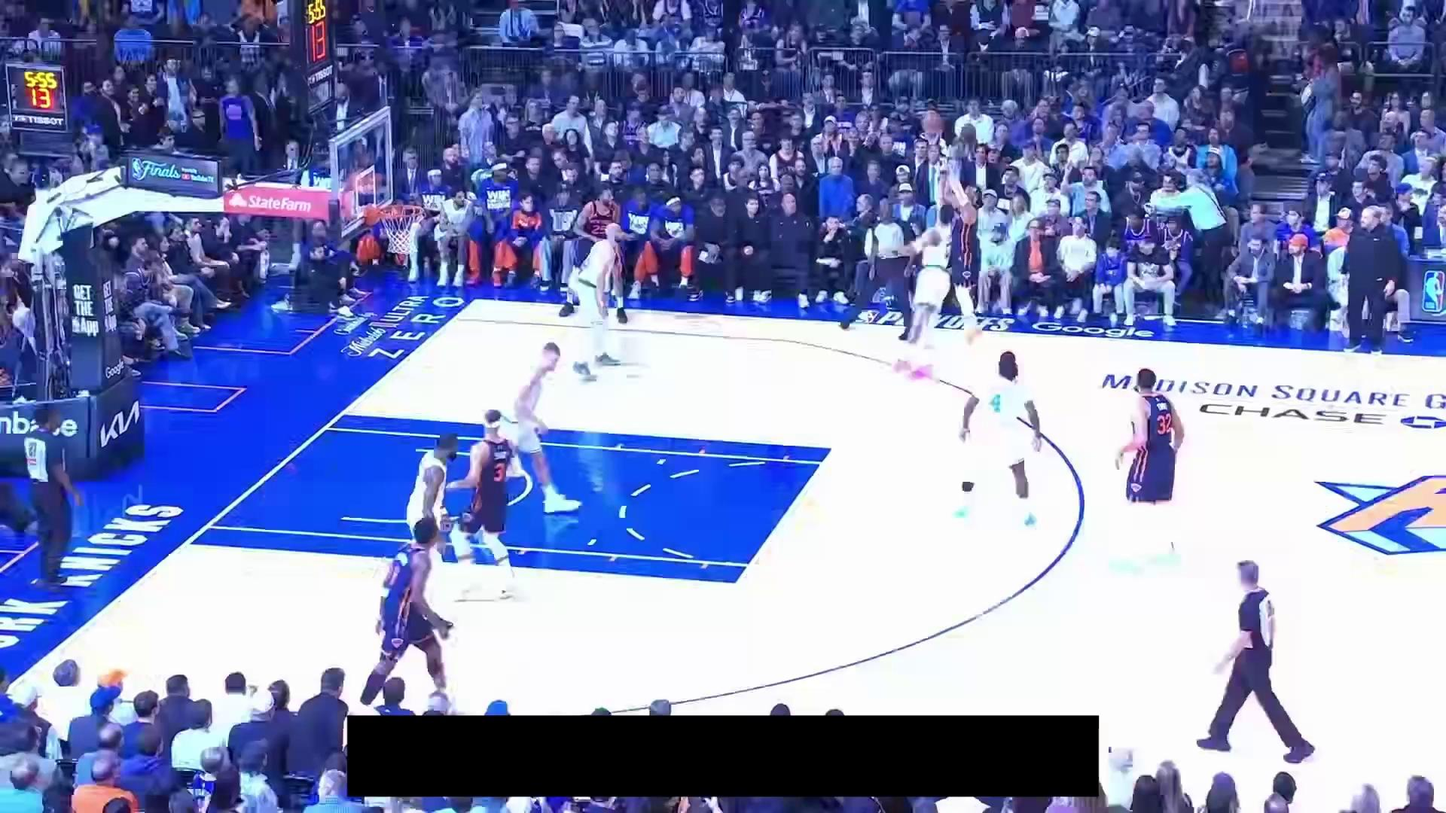ball: (923, 110, 944, 132)
number: (1157, 413, 1172, 434), (989, 392, 1003, 413), (493, 462, 505, 483), (591, 224, 608, 235)
player: (949, 321, 1046, 531), (355, 517, 454, 716), (439, 407, 525, 602), (1111, 364, 1190, 563), (493, 341, 583, 513), (557, 185, 627, 324), (406, 429, 459, 607), (572, 222, 625, 383)
player-jump-shot: (933, 166, 990, 358)
player-shot-block: (890, 168, 956, 382)
referee: (1194, 555, 1319, 765), (22, 400, 84, 592), (840, 197, 917, 340)
rim: (378, 203, 426, 219)
